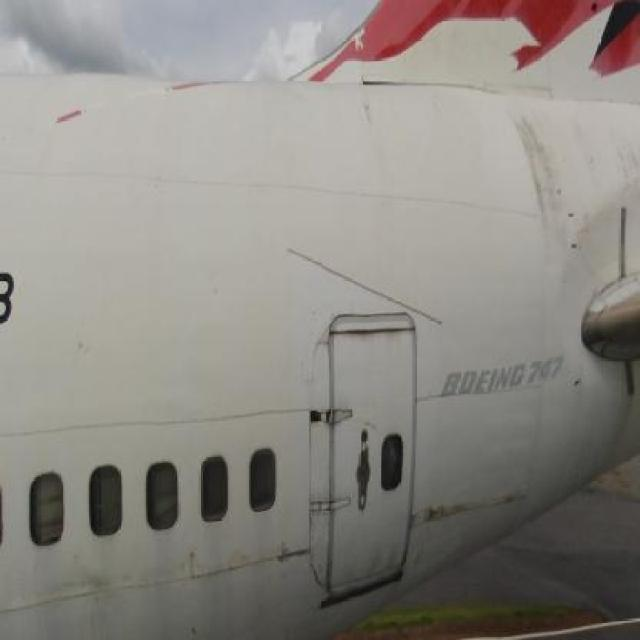Rust: (516, 115, 593, 272), (407, 490, 519, 528), (330, 315, 413, 360), (598, 112, 640, 193), (352, 534, 400, 583), (614, 376, 634, 461)
Scartch: (64, 560, 124, 628), (265, 534, 317, 574), (176, 551, 207, 594)
